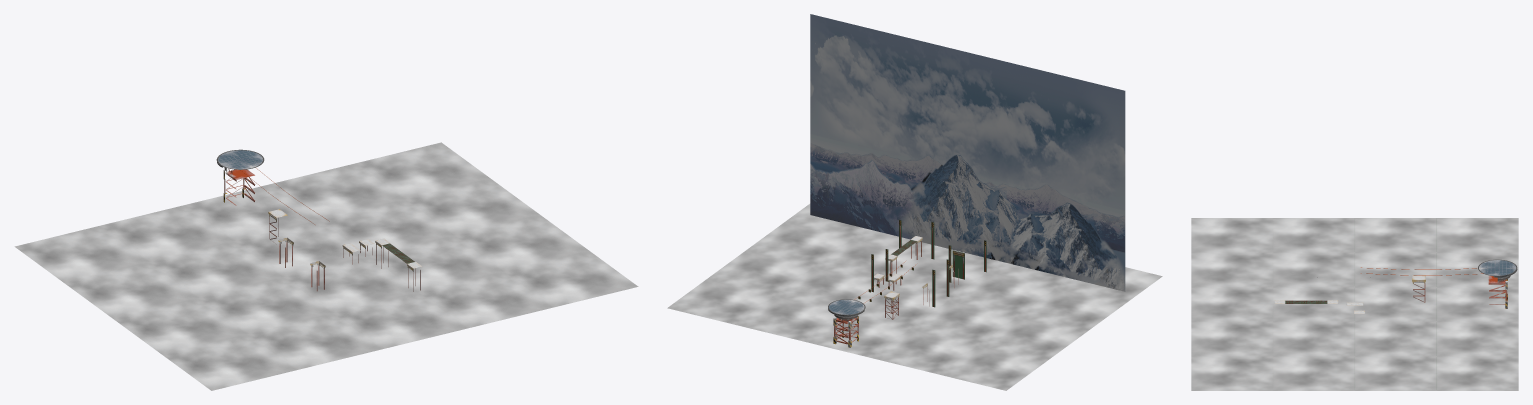
File: EnvironmentE.glb
3 views of the same model, side by side, from view 1: azimuth 30°, elevation 25°; view 2: azimuth 150°, elevation 25°; view 3: azimuth 270°, elevation 25° (orthographic). The views are drawn at different scales.
Parts seen in each view (by area): view 1: EnvironmentE_High, BigPlace shadow; view 2: EnvironmentE_High, BigPlace shadow; view 3: EnvironmentE_High, BigPlace shadow.
Boxes of the visible parts, box(x1,y1,x2,y2) form: EnvironmentE_High: box(14, 142, 638, 390); BigPlace shadow: box(216, 149, 264, 205); EnvironmentE_High: box(667, 14, 1162, 390); BigPlace shadow: box(828, 299, 865, 347); EnvironmentE_High: box(1191, 218, 1518, 390); BigPlace shadow: box(1478, 259, 1517, 308).
Size of the model in its own units: 136 by 80.99 by 109.
Materials: 1 (1 with a texture image).
